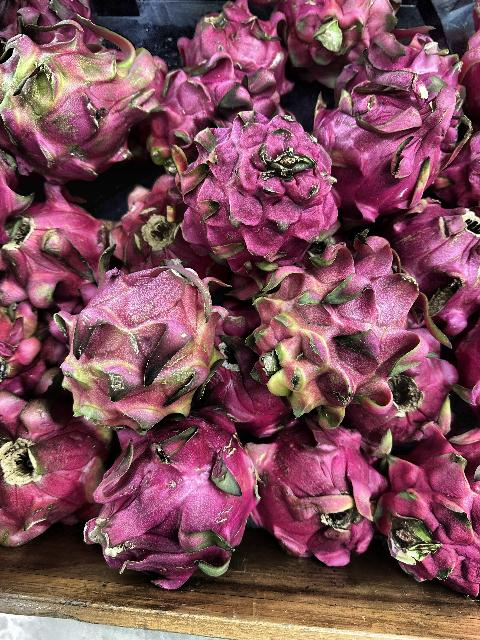buah-naga-belum-matang: (254, 240, 424, 420), (0, 19, 166, 184), (64, 268, 228, 428)
buah-naga-matang: (94, 426, 264, 590), (172, 120, 340, 256), (310, 75, 442, 222), (0, 386, 106, 550), (380, 428, 480, 594), (332, 29, 480, 133), (263, 430, 383, 558), (106, 176, 228, 298), (147, 51, 285, 152), (376, 199, 480, 327), (0, 185, 108, 307), (174, 0, 294, 92), (280, 0, 406, 66), (0, 288, 68, 396)
